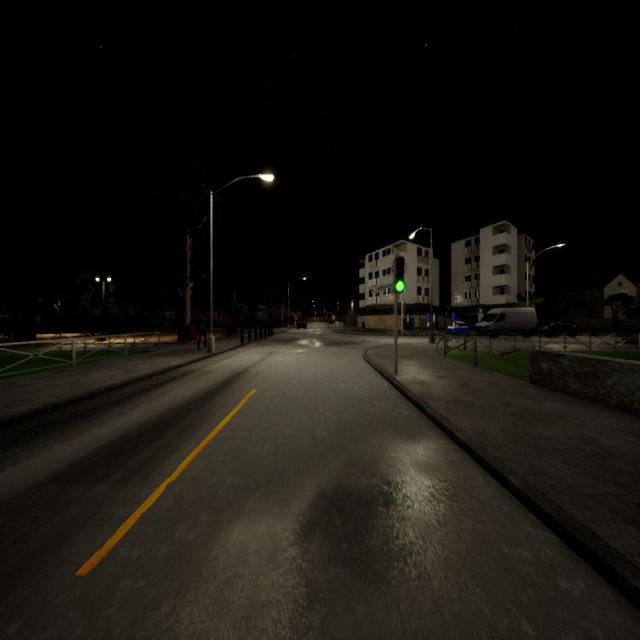Pedestrian: (197, 309, 207, 349), (343, 314, 347, 330)
Traffic_Signs: (332, 315, 335, 320)
Vehicle: (473, 308, 538, 340), (540, 319, 577, 338), (446, 321, 469, 336), (296, 318, 306, 329)
traffic_light: (394, 256, 404, 294), (403, 304, 405, 313)
